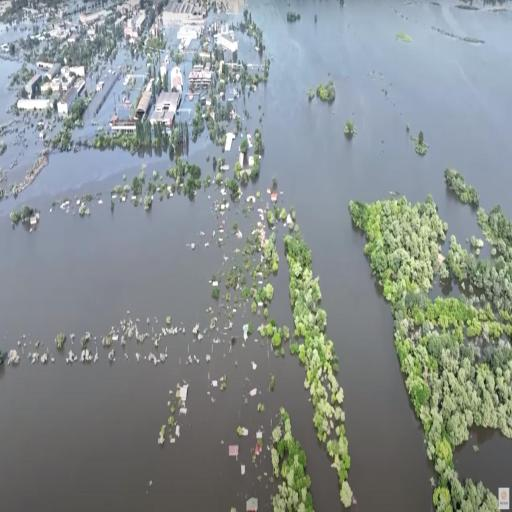flood: (0, 39, 343, 511), (225, 0, 512, 511), (234, 0, 512, 512), (0, 78, 273, 509), (245, 344, 343, 512), (454, 425, 512, 511), (429, 275, 485, 303)
house: (150, 89, 184, 126), (56, 83, 78, 118), (189, 63, 215, 90), (216, 29, 240, 56), (22, 72, 43, 96), (136, 90, 152, 117), (170, 65, 184, 92), (270, 186, 279, 207)
